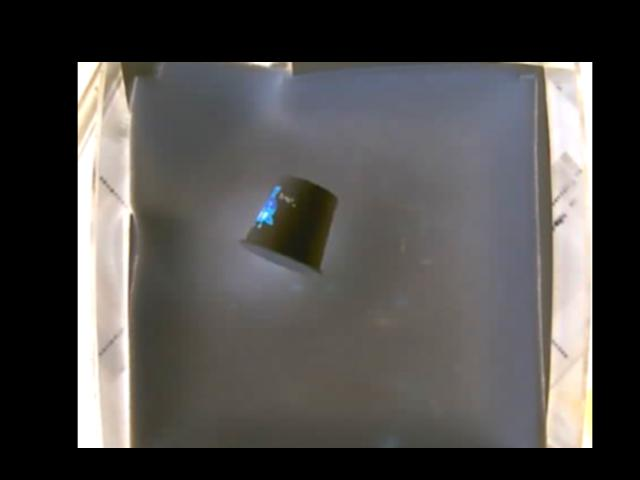Cup: (242, 175, 335, 271)
